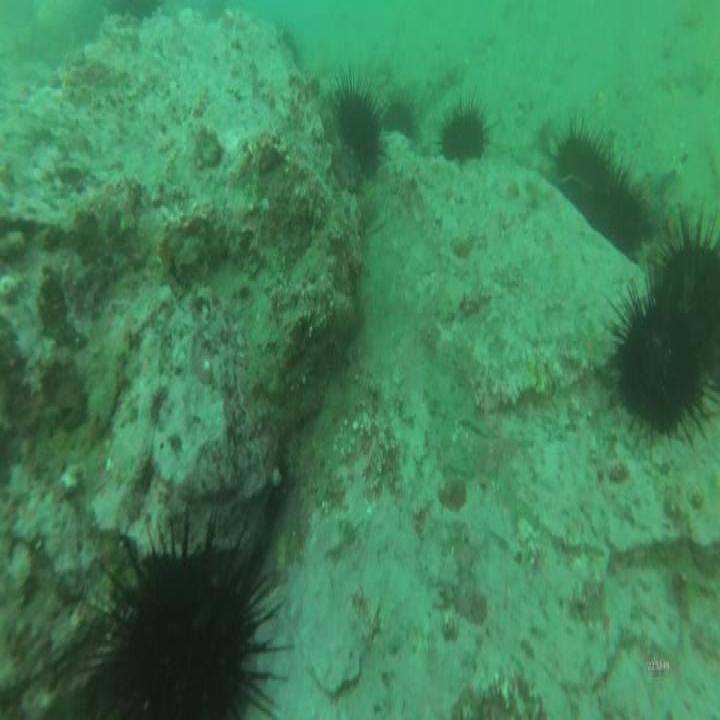echinus: (114, 560, 263, 720), (619, 300, 702, 437), (654, 238, 719, 377), (552, 132, 609, 211), (335, 87, 383, 171), (606, 169, 638, 251), (446, 108, 487, 162)
starfish: (638, 162, 678, 228)
